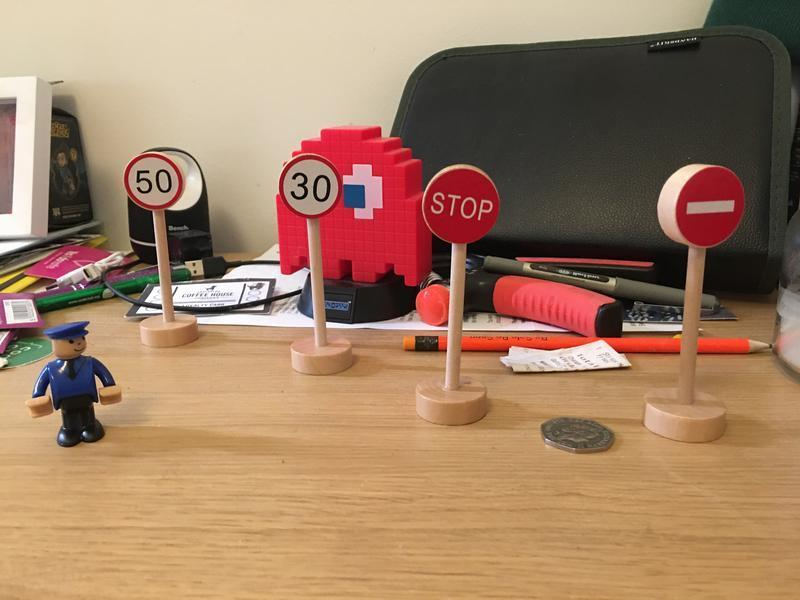Traffic_Sign_30: (280, 155, 343, 217)
Traffic_Sign_50: (124, 153, 185, 209)
Traffic_Sign_No_Entry: (677, 170, 745, 247)
Traffic_Sign_Stop: (422, 169, 498, 244)
person: (26, 322, 127, 450)
